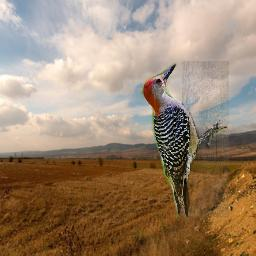Woodpecker: (137, 61, 229, 217)
